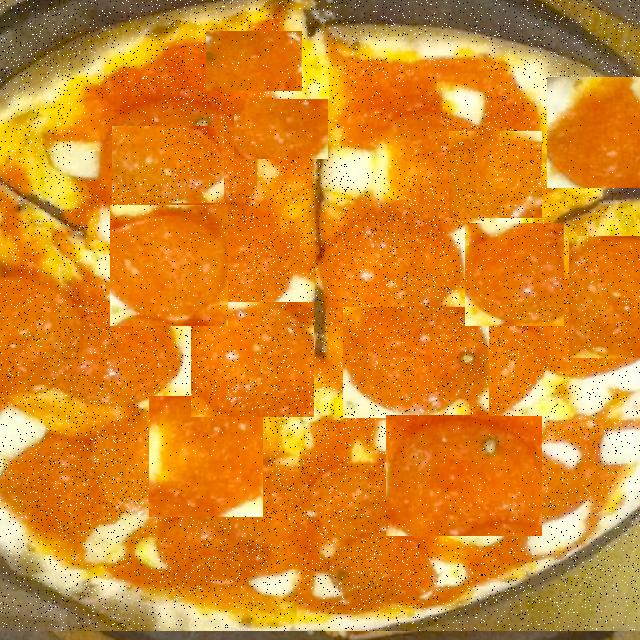Pepperoni: (386, 416, 542, 536), (343, 308, 489, 420), (110, 205, 228, 326), (191, 302, 314, 417), (149, 396, 263, 517), (547, 77, 640, 188), (465, 223, 564, 326), (0, 253, 105, 350), (345, 84, 442, 174), (569, 236, 640, 358), (112, 126, 224, 203), (449, 131, 542, 218), (72, 95, 161, 179), (388, 38, 485, 111), (206, 31, 302, 91), (234, 99, 328, 159)
Pizza: (0, 0, 640, 631)
